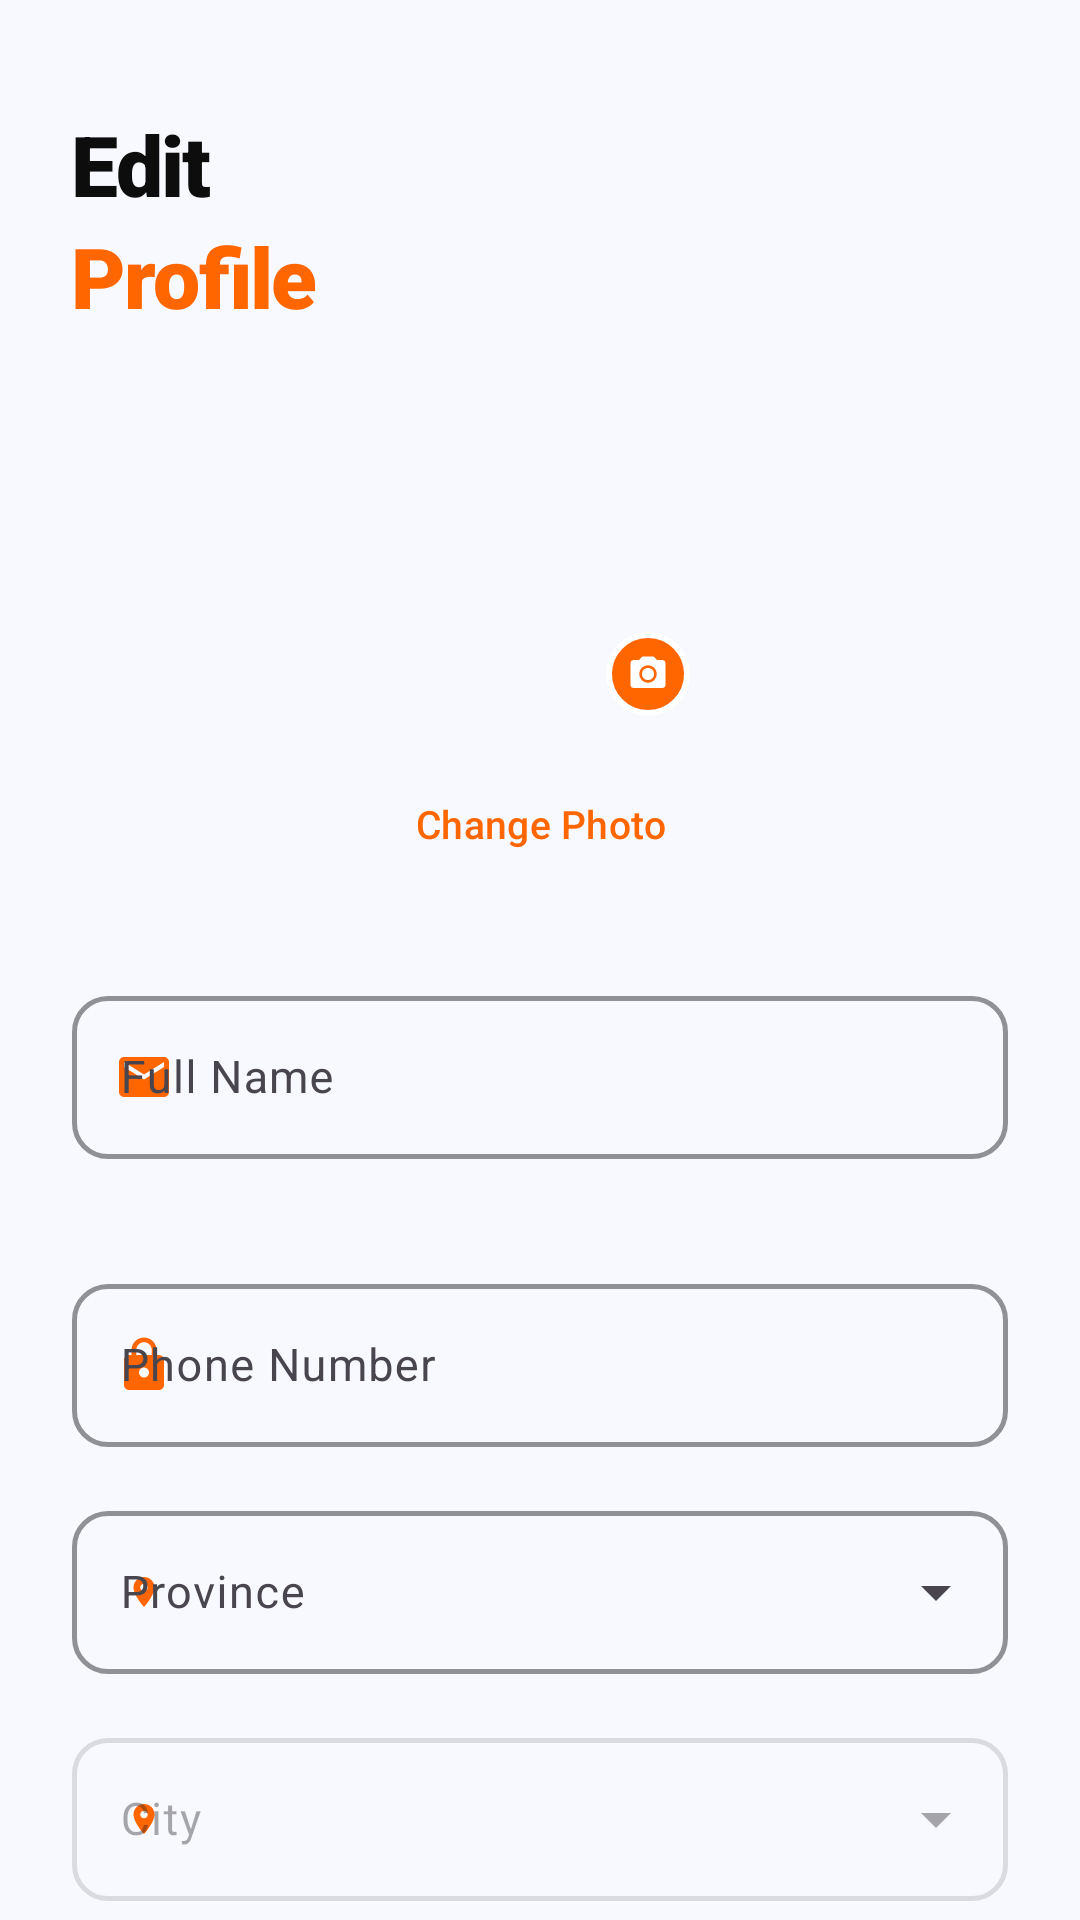

Icons on this 1080*1920 Android screen, each with the point to tap as (x,y):
camera: (648,672)
